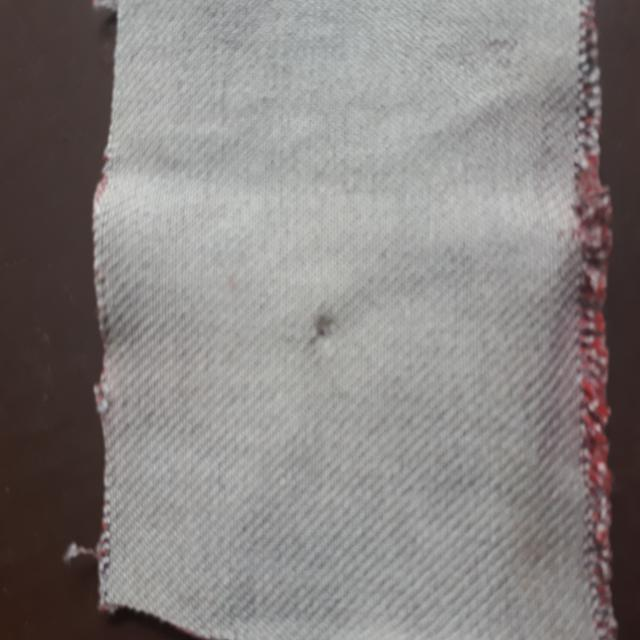seam: (291, 281, 371, 369)
